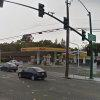Traffic light: (31, 2, 69, 26)
